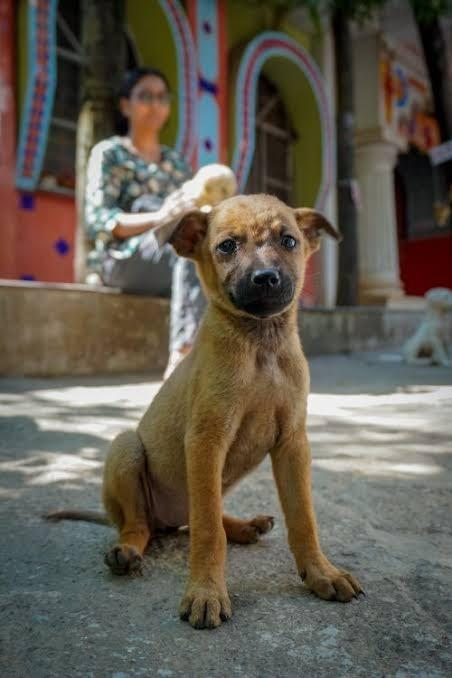adult_dog: (100, 163, 238, 262), (377, 286, 452, 369)
non-dog: (80, 63, 211, 381)
puppy-dog: (41, 193, 367, 630)
